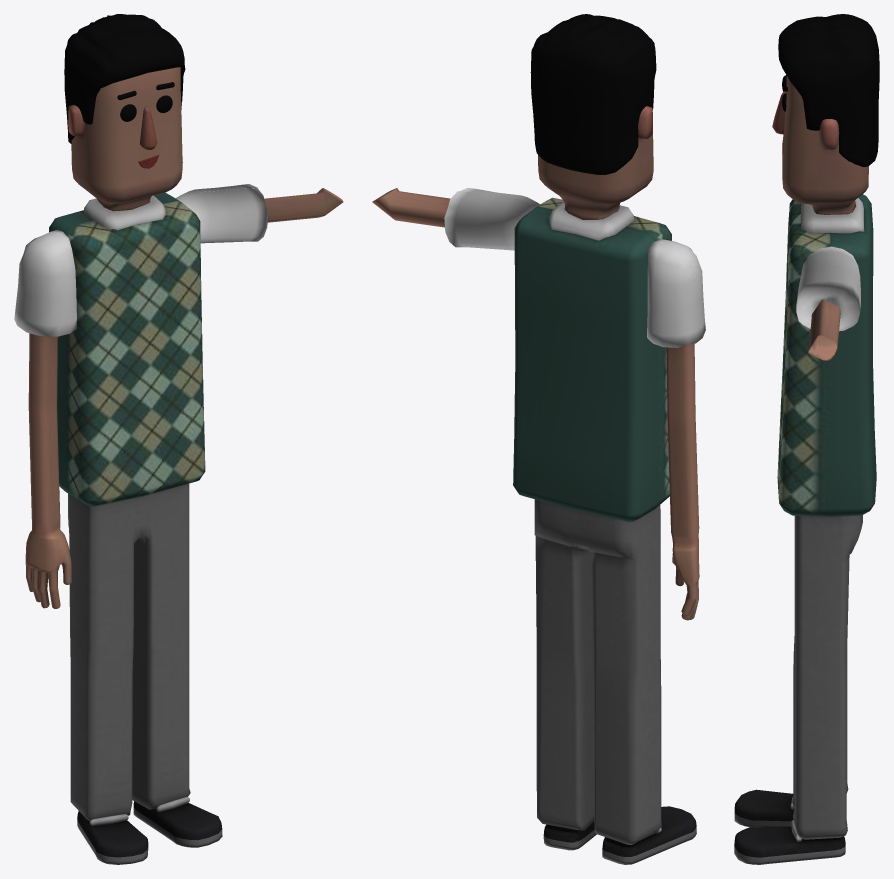
The model's file is KennyBaseModel.gltf.
3 views of the same model, side by side, from view 1: azimuth 30°, elevation 25°; view 2: azimuth 150°, elevation 25°; view 3: azimuth 270°, elevation 25° (orthographic). The views are drawn at different scales.
Visible parts, largest first — view 1: clothes, skin, hair, Arm; view 2: clothes, hair, skin, Arm; view 3: clothes, hair, skin, Arm.
Boxes of the visible parts, box(x1,y1,x2,y2) form: clothes: box(14, 184, 268, 864); skin: box(25, 67, 182, 608); hair: box(64, 14, 185, 143); Arm: box(264, 188, 343, 222); clothes: box(444, 188, 705, 864); hair: box(530, 14, 656, 174); skin: box(538, 106, 699, 620); Arm: box(372, 188, 450, 227); clothes: box(734, 194, 876, 864); hair: box(778, 14, 879, 166); skin: box(772, 76, 868, 214); Arm: box(808, 299, 840, 360).
Bounding box in the file's own units: 41.03 × 98.44 × 15.97.
3 materials, 2 textured.
